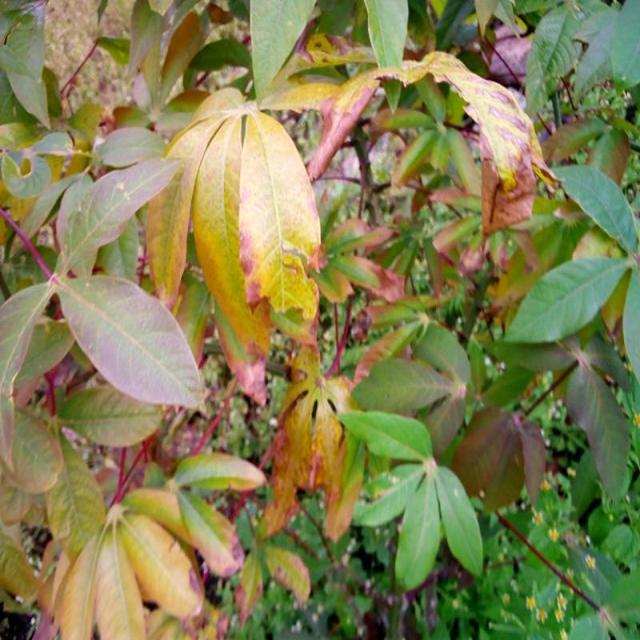cassava leaf: (146, 94, 323, 360), (54, 272, 204, 411)
